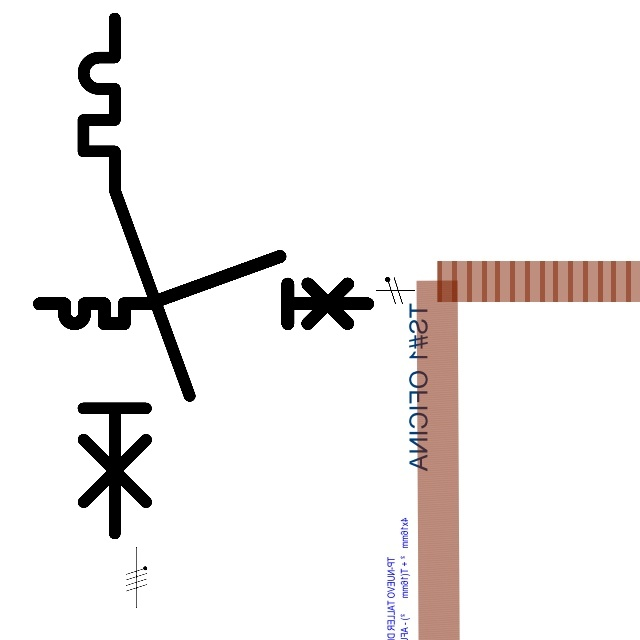interruptor_termomagnetico: (70, 5, 202, 547), (31, 248, 376, 332)
